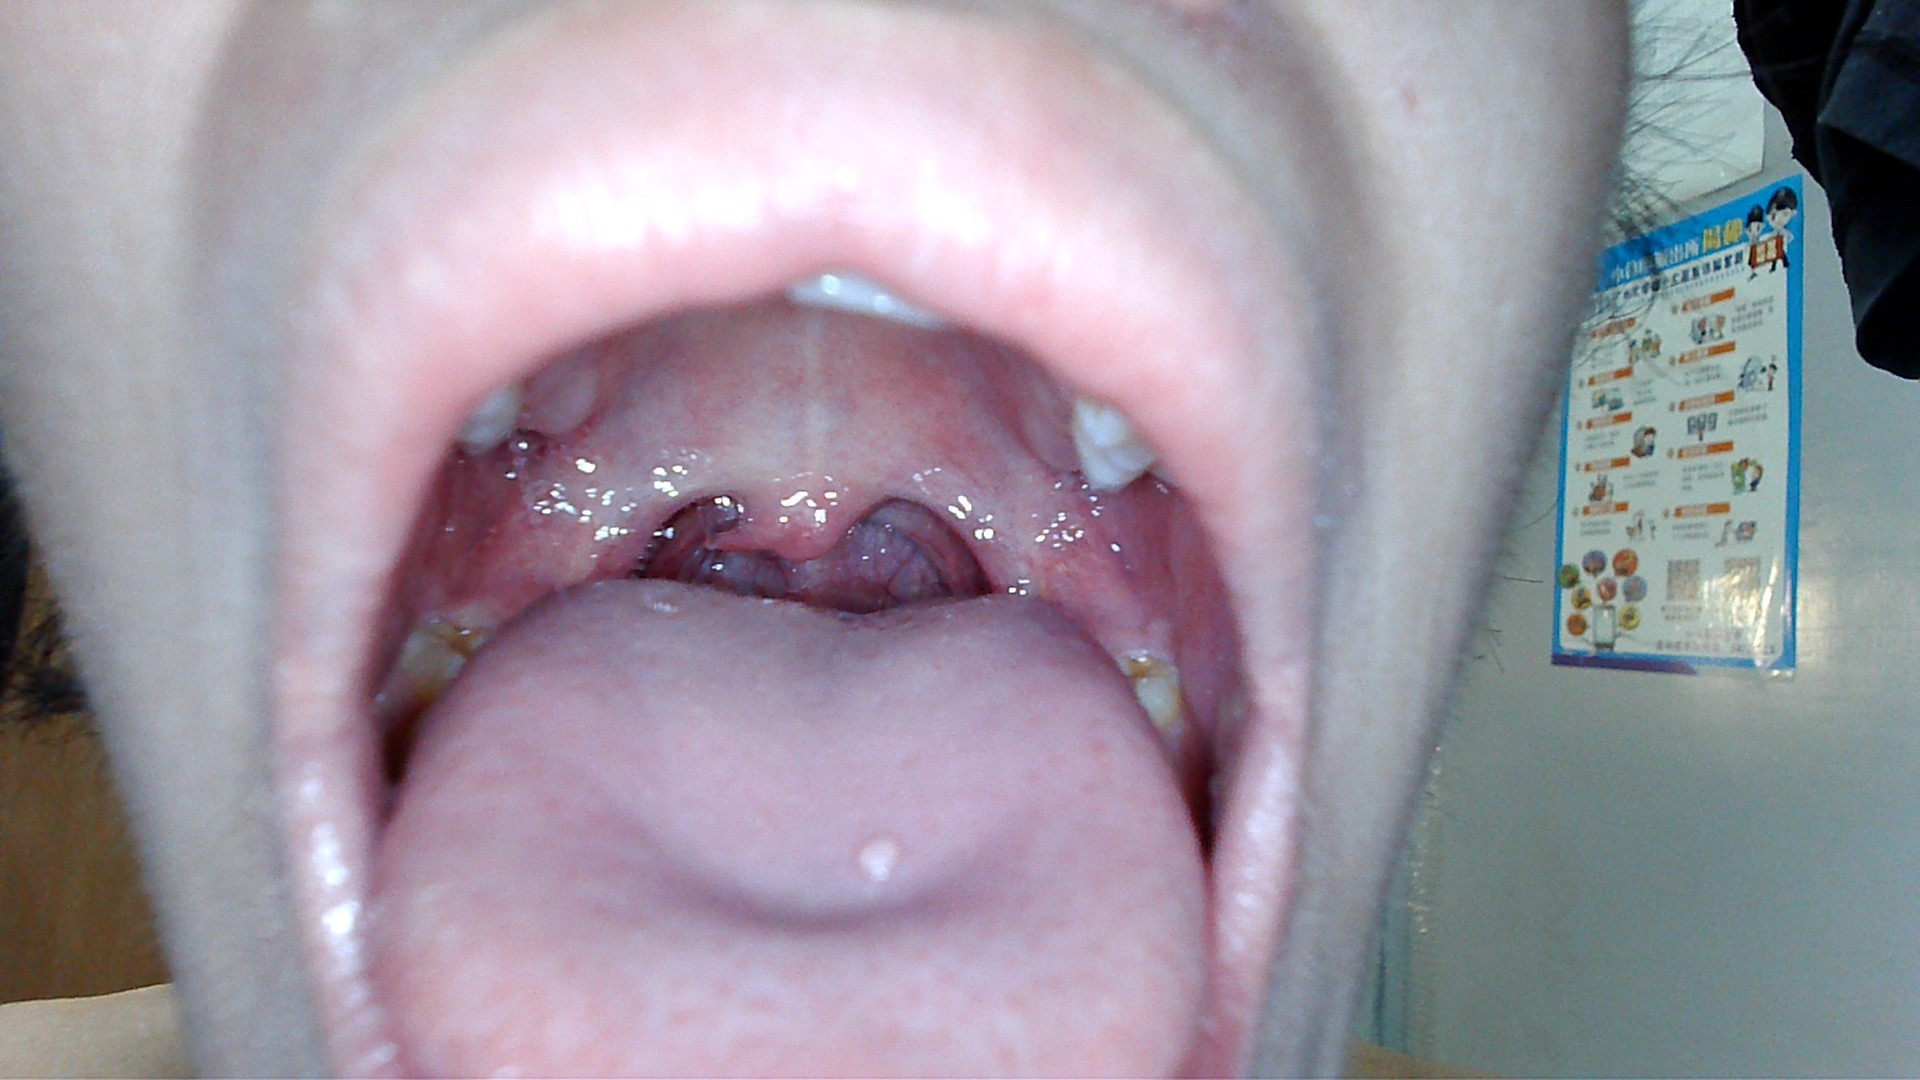throat: (938, 468, 1034, 592), (589, 472, 662, 580)
